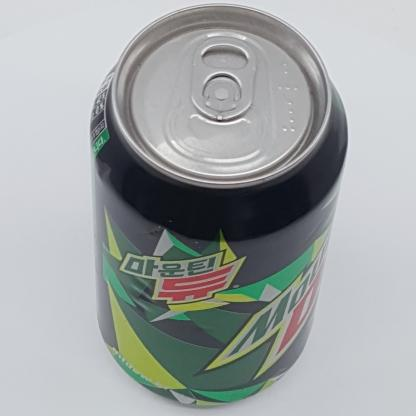------355ML: (89, 2, 349, 407)
